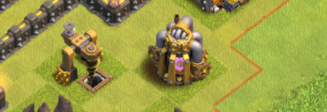dark_elixir_colector: (43, 22, 115, 96)
elixir_colector: (143, 13, 219, 96)
gold_mine: (174, 0, 259, 14)
